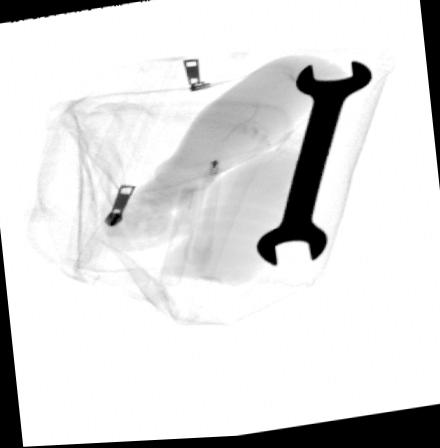Wrench: (253, 59, 375, 272)
